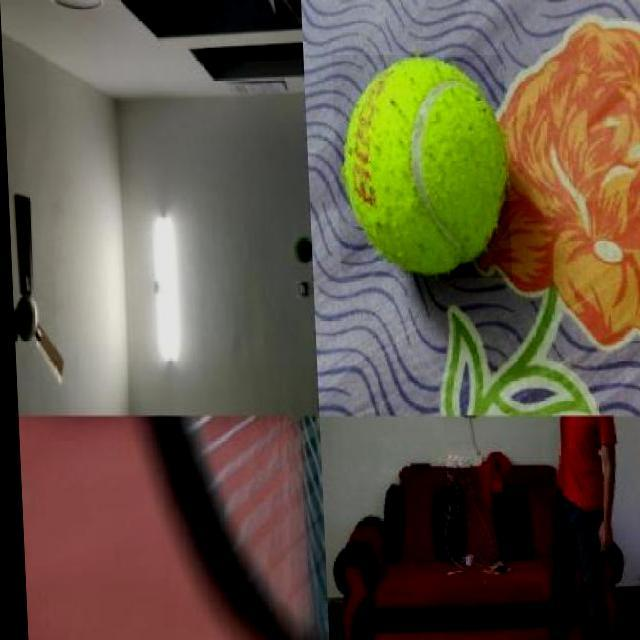-: (331, 55, 510, 278)
